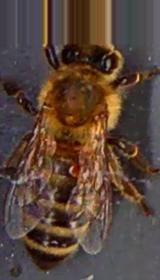varroa_mite: (64, 159, 87, 181)
